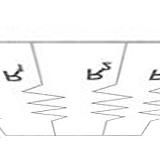resistor: (20, 78, 68, 126), (86, 79, 131, 120)
